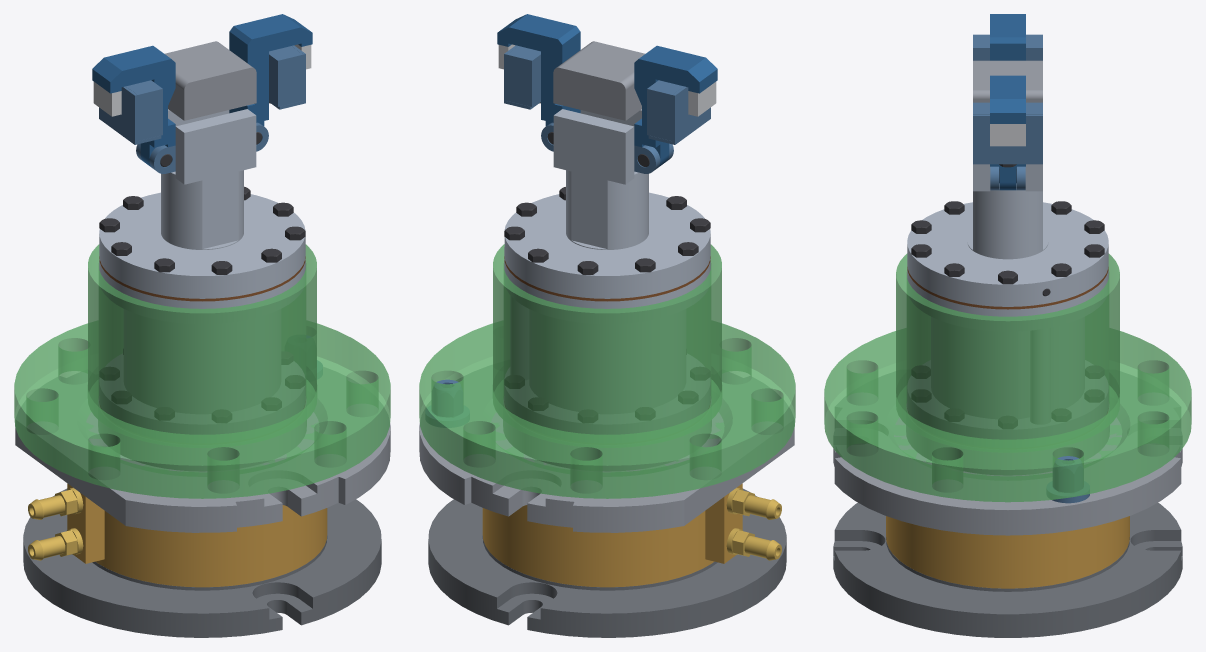
Rendered from prisposoblenie_svarochnoe_2.glb.
3 renders of one model, left to right at view 1: azimuth 30°, elevation 25°; view 2: azimuth 150°, elevation 25°; view 3: azimuth 270°, elevation 25°, orthographic. The views are drawn at different scales.
Parts seen in each view (by area): view 1: flanec_17, stakan_zagotovka, korpus_15, kryshka_11, gilza_18, plita, vtulka_16, kolodka, rychag_5_L, rychag_5_R, korpus_fiks_R, korpus_fiks_L (+6 smaller); view 2: flanec_17, stakan_zagotovka, korpus_15, kryshka_11, gilza_18, plita, vtulka_16, kolodka, rychag_5_L, rychag_5_R, korpus_fiks_R, palec_24 (+8 smaller); view 3: flanec_17, stakan_zagotovka, korpus_15, plita, gilza_18, kryshka_11, vtulka_16, skoba_8_R, rychag_5_R, kolodka, trubka_13, rychag_5_L (+4 smaller).
Boxes of the visible parts, <box> form: flanec_17: <box>14,321,390,498</box>; stakan_zagotovka: <box>88,244,316,447</box>; korpus_15: <box>15,367,390,532</box>; kryshka_11: <box>99,109,305,298</box>; gilza_18: <box>99,259,305,434</box>; plita: <box>23,488,381,637</box>; vtulka_16: <box>67,483,327,587</box>; kolodka: <box>164,41,256,120</box>; rychag_5_L: <box>92,45,175,168</box>; rychag_5_R: <box>229,14,312,126</box>; korpus_fiks_R: <box>269,46,303,106</box>; korpus_fiks_L: <box>126,80,162,140</box>; flanec_17: <box>419,321,795,498</box>; stakan_zagotovka: <box>493,244,721,447</box>; korpus_15: <box>419,365,794,532</box>; kryshka_11: <box>504,109,710,298</box>; gilza_18: <box>504,259,710,434</box>; plita: <box>428,488,786,637</box>; vtulka_16: <box>482,483,742,587</box>; kolodka: <box>553,41,645,120</box>; rychag_5_L: <box>634,45,717,168</box>; rychag_5_R: <box>497,14,580,126</box>; korpus_fiks_R: <box>506,46,540,106</box>; palec_24: <box>426,379,469,427</box>; flanec_17: <box>824,328,1191,502</box>; stakan_zagotovka: <box>896,253,1119,451</box>; korpus_15: <box>833,371,1182,535</box>; plita: <box>833,502,1182,637</box>; gilza_18: <box>907,269,1108,438</box>; kryshka_11: <box>907,164,1108,306</box>; vtulka_16: <box>886,516,1129,588</box>; skoba_8_R: <box>973,115,1042,164</box>; rychag_5_R: <box>990,75,1025,190</box>; kolodka: <box>973,60,1042,102</box>; trubka_13: <box>1030,328,1050,423</box>; rychag_5_L: <box>990,14,1025,60</box>.
Size of the model in its own units: 215 by 320 by 210.
